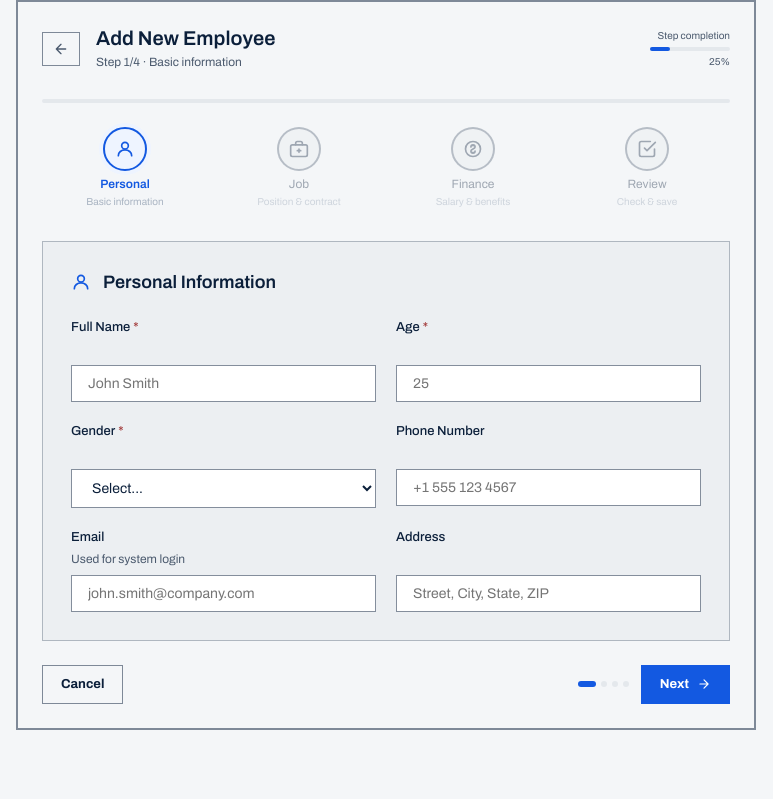
AddEmployee — the extracted step components mount and advance › renders the department list handed to JobStep by the shell
The width and height of the screenshot is (773, 799).
Expected: the heading "Personal Information" is shown, [71,272,276,292]
In the field with placeholder "John Smith": (224, 384) [71,365,376,402], type "Alice Nguyen"
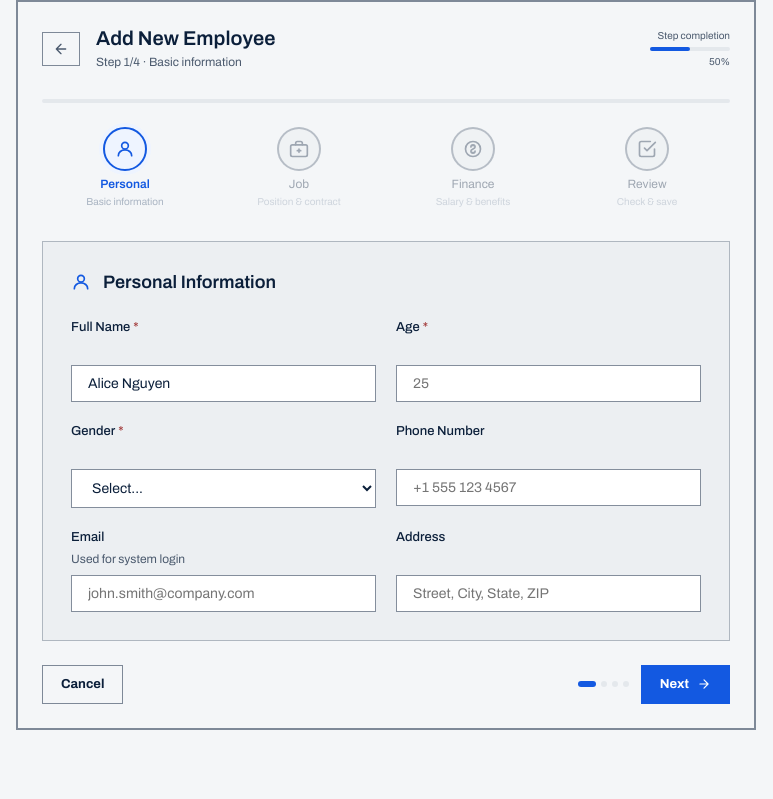
In the number field with placeholder "25": (548, 384) [396,365,701,402], type "30"
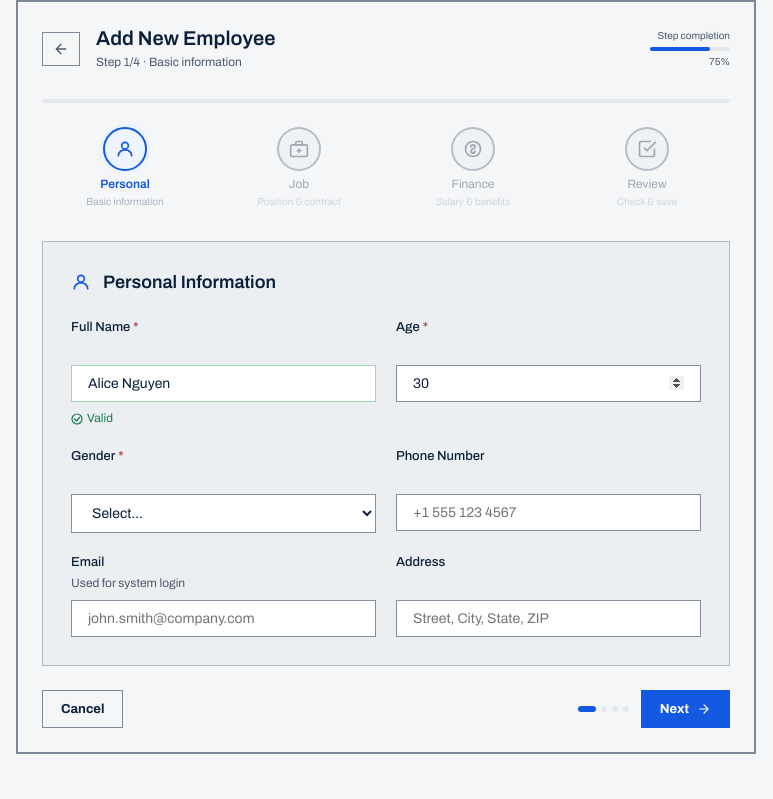
Select "Female" in the dropdown: (224, 514) [71,494,376,533]
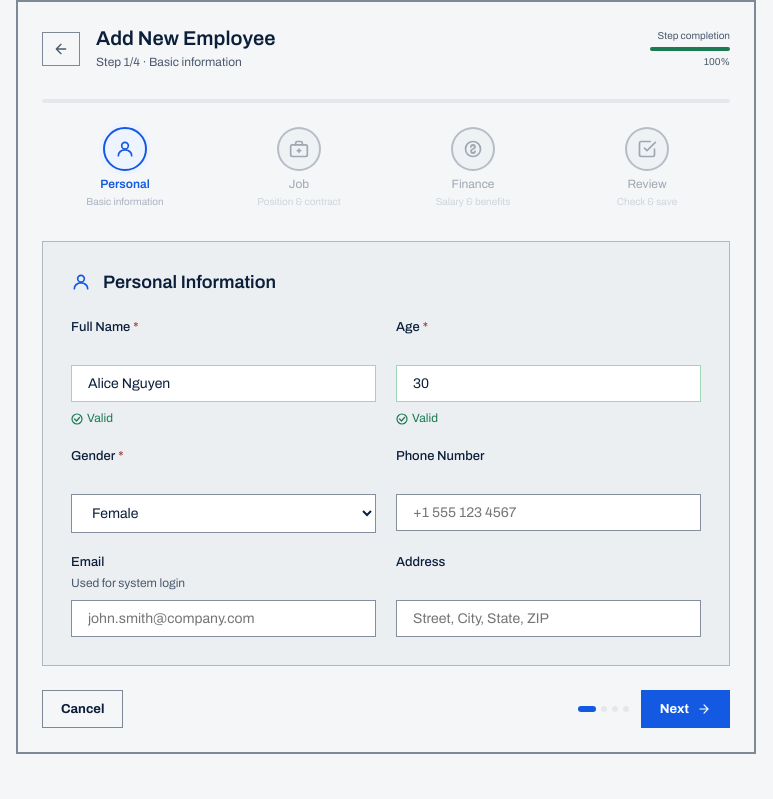
In the field with placeholder "john.smith@company.com": (224, 619) [71,600,376,637], type "alice@hrms.com"
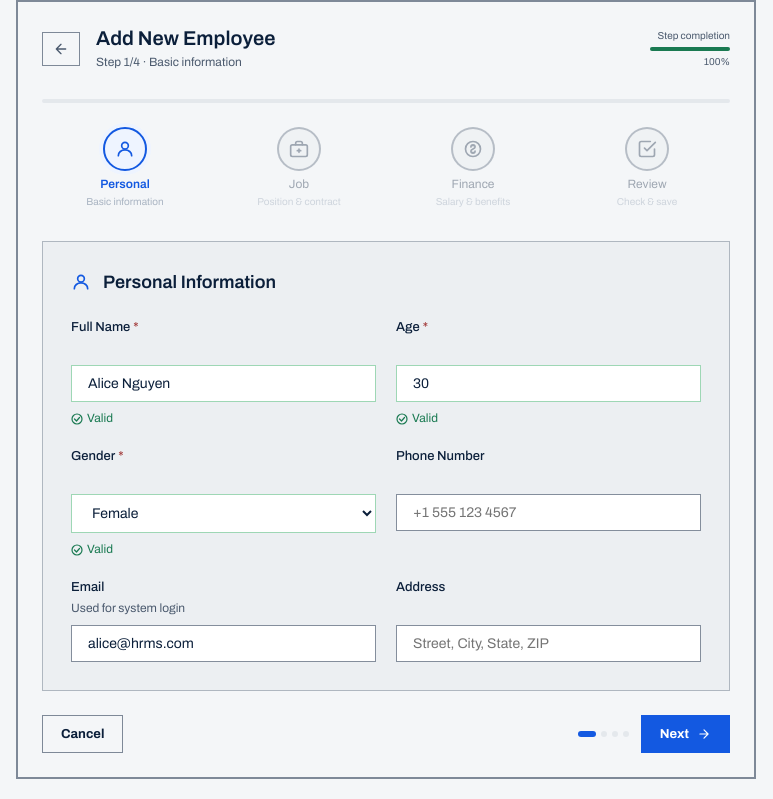
Click the button "Next": (685, 734) [641,715,730,753]
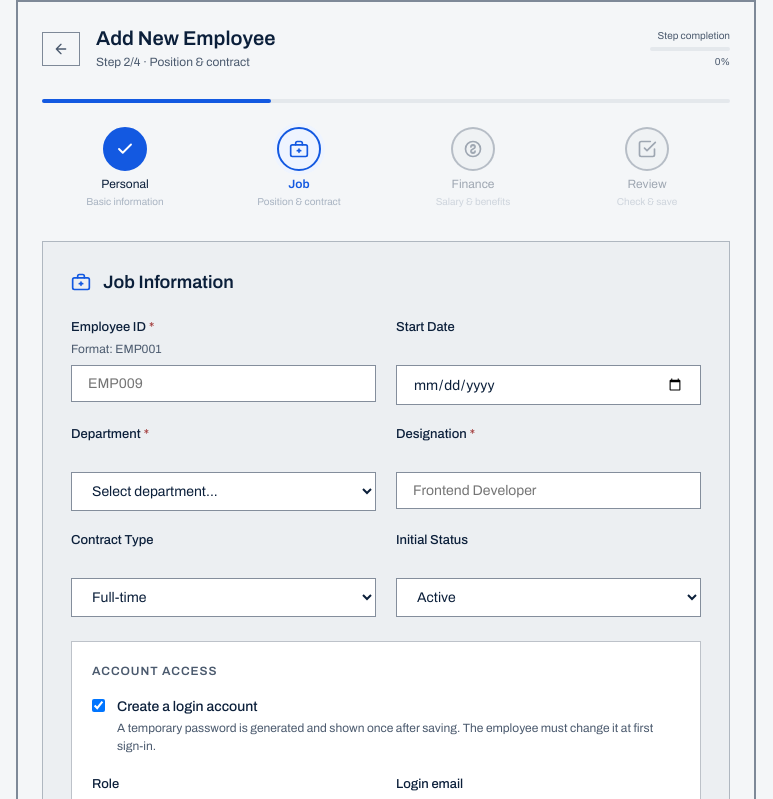
Expected: the heading "Job Information" is shown, [71,272,234,292]
